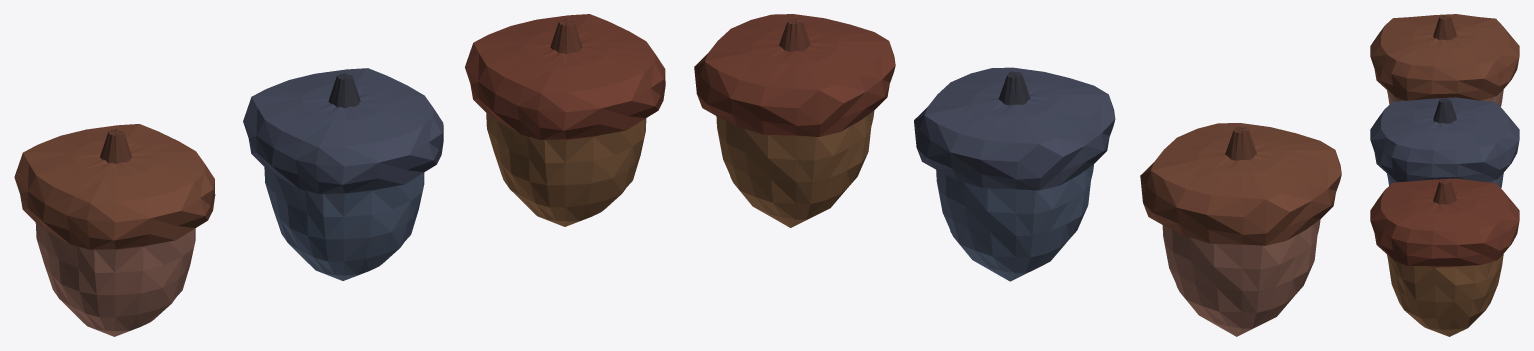
File: SM_acorns_BA.fbx
3 renders of one model, left to right at view 1: azimuth 30°, elevation 25°; view 2: azimuth 150°, elevation 25°; view 3: azimuth 270°, elevation 25°, orthographic. The views are drawn at different scales.
Parts seen in each view (by area): view 1: SM_acorn_2_BA, SM_acorn_1_BA, SM_acorn_3_BA; view 2: SM_acorn_1_BA, SM_acorn_2_BA, SM_acorn_3_BA; view 3: SM_acorn_1_BA, SM_acorn_3_BA, SM_acorn_2_BA.
Part boxes in pixels (left/top/right/bottom): SM_acorn_2_BA: left=243, top=68, right=443, bottom=280; SM_acorn_1_BA: left=465, top=14, right=665, bottom=226; SM_acorn_3_BA: left=14, top=124, right=215, bottom=336; SM_acorn_1_BA: left=694, top=14, right=895, bottom=227; SM_acorn_2_BA: left=914, top=67, right=1115, bottom=281; SM_acorn_3_BA: left=1140, top=123, right=1341, bottom=336; SM_acorn_1_BA: left=1370, top=178, right=1519, bottom=336; SM_acorn_3_BA: left=1370, top=14, right=1519, bottom=106; SM_acorn_2_BA: left=1370, top=97, right=1519, bottom=188.
Bounding box in the file's own units: 16.76 × 4.71 × 5.4.
